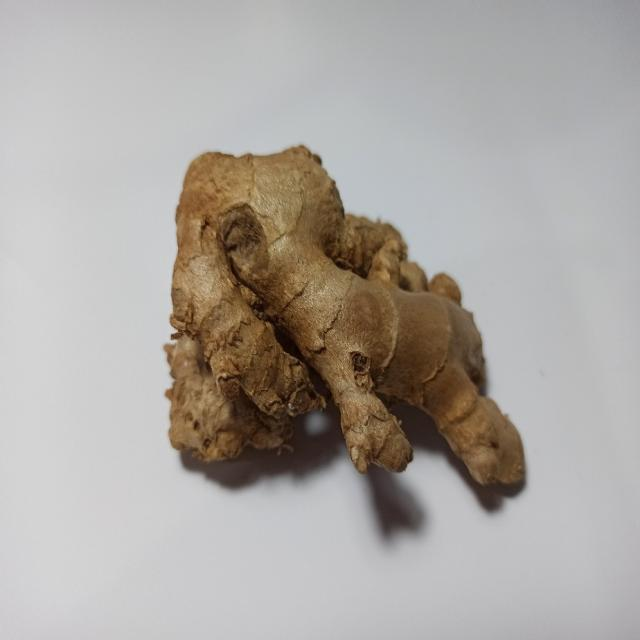ginger: (169, 147, 526, 492)
